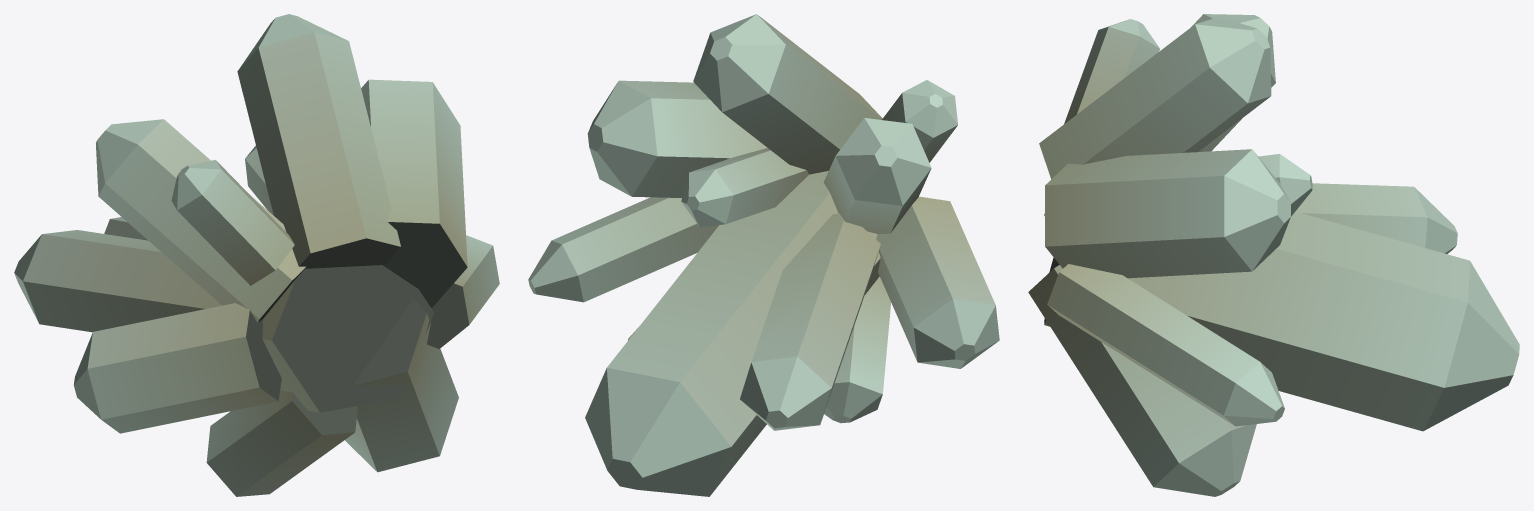
The model's file is ColoredCrystalCluster.003.glb.
3 renders of one model, left to right at view 1: azimuth 30°, elevation 25°; view 2: azimuth 150°, elevation 25°; view 3: azimuth 270°, elevation 25°, orthographic. The views are drawn at different scales.
Parts seen in each view (by area): view 1: ColoredCrystalCluster.003; view 2: ColoredCrystalCluster.003; view 3: ColoredCrystalCluster.003.
Part boxes in pixels (<box>): ColoredCrystalCluster.003: <box>14,14,499,496</box>; ColoredCrystalCluster.003: <box>528,14,999,496</box>; ColoredCrystalCluster.003: <box>1028,14,1519,496</box>.
Bounding box in the file's own units: 954 × 914 × 951.
